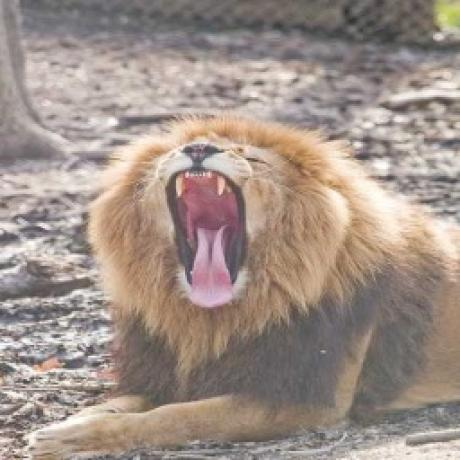Lion: (30, 115, 460, 452)
